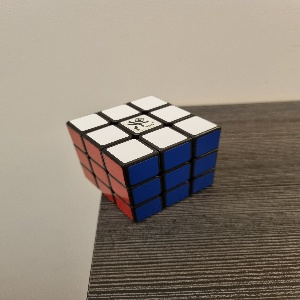cube: (66, 94, 221, 223)
